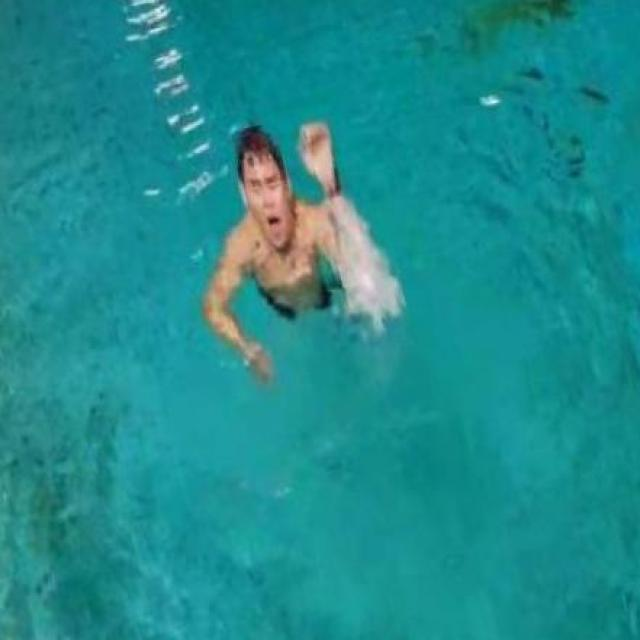Drowning: (197, 120, 368, 383)
